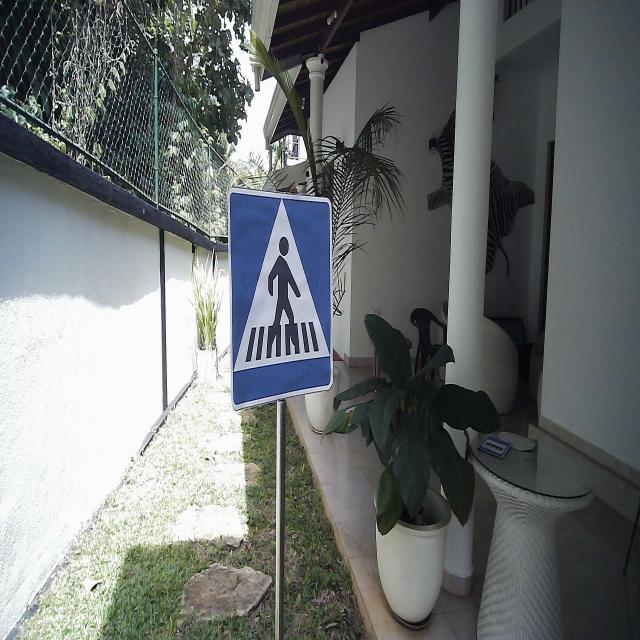crosswalk_sign: (226, 185, 334, 412)
